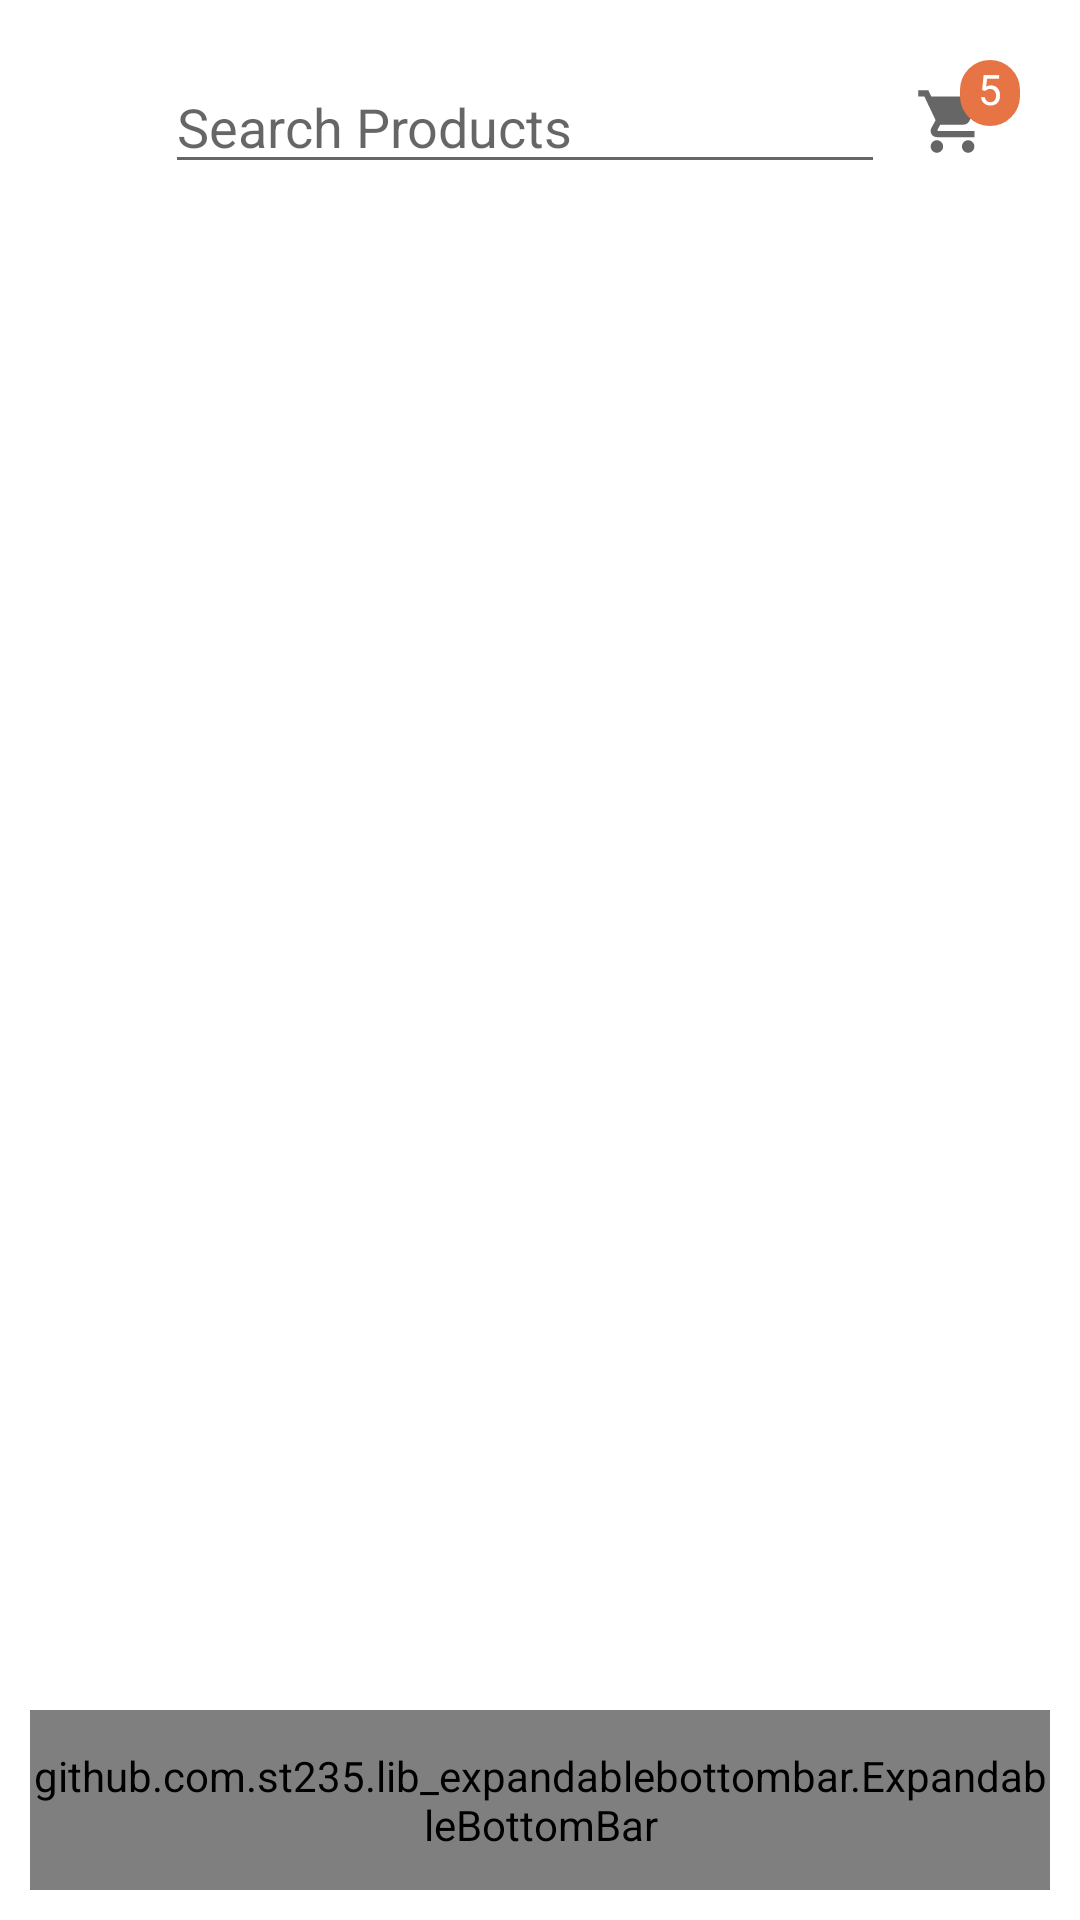

Icons on this 1080w x 1920h Android screen, each with the point to tap as [x,y]:
shopping cart: [954,118]
